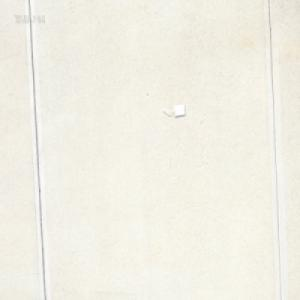LuggageTag: (162, 103, 185, 119)
